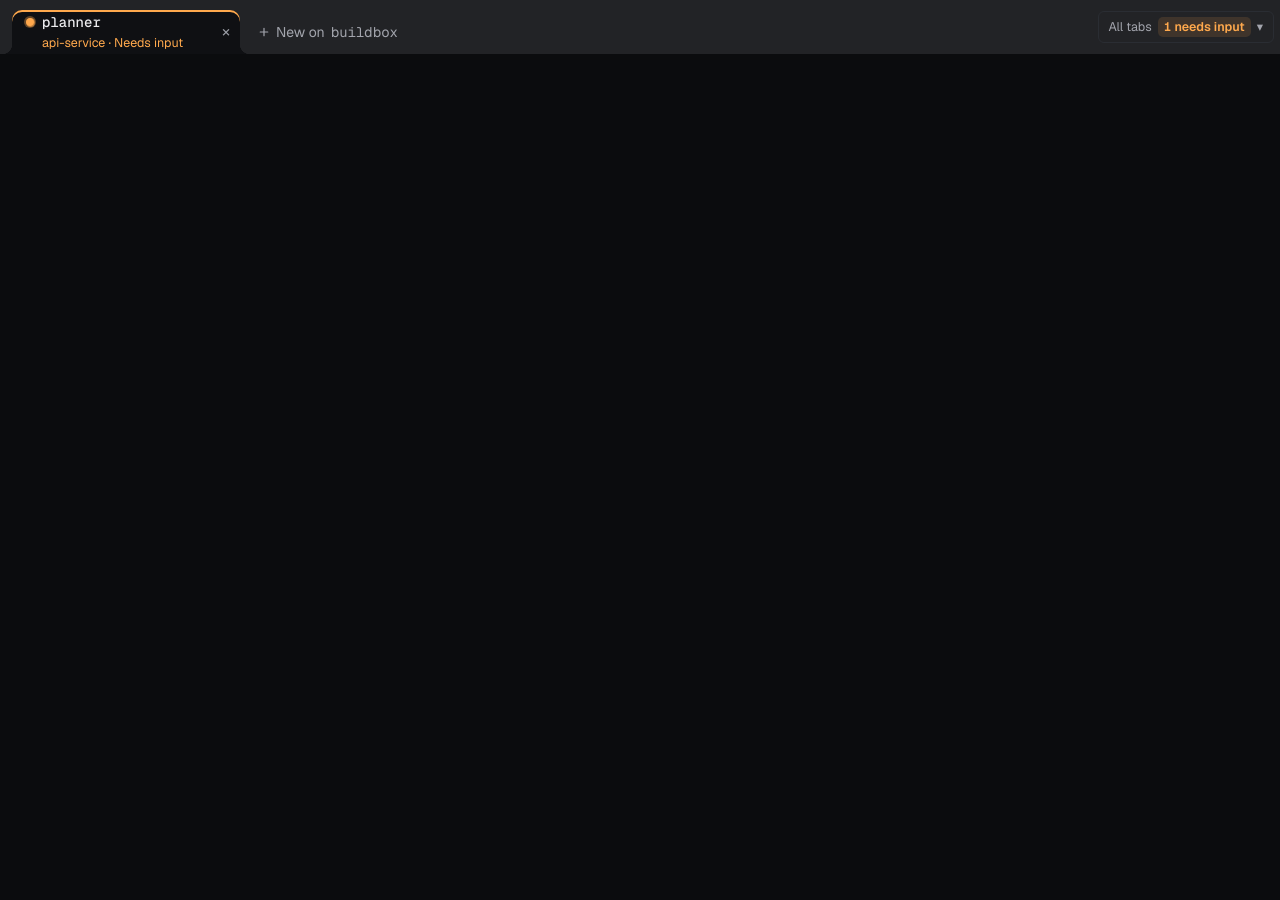
Test: SessionRow › All tabs menu › the_menu_closes_on_escape_or_an_outside_press_and_arrows_move
Click the button "All tabs 1 needs input ▾" at (1186, 27), box [1098, 11, 1274, 43]
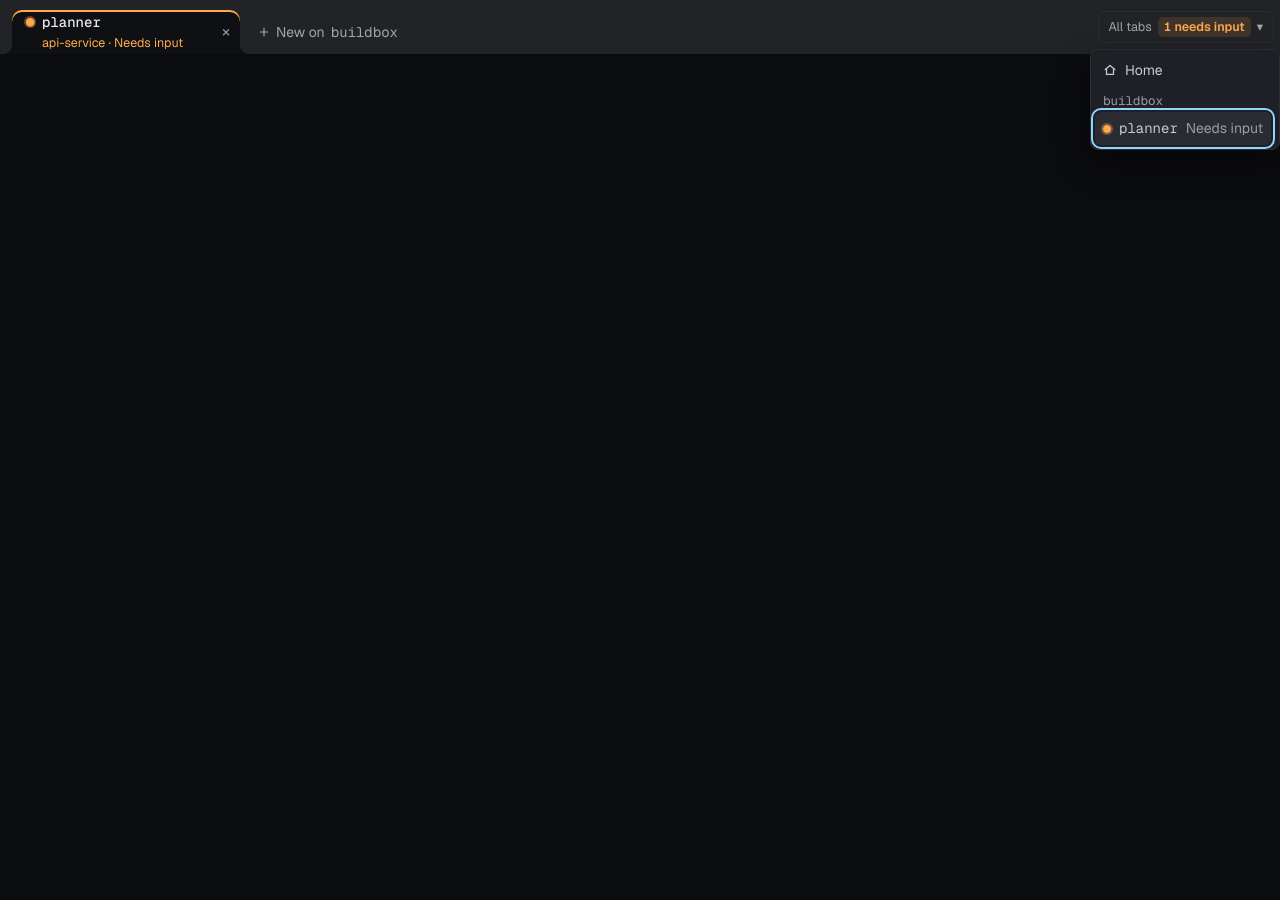
Press Arrowdown
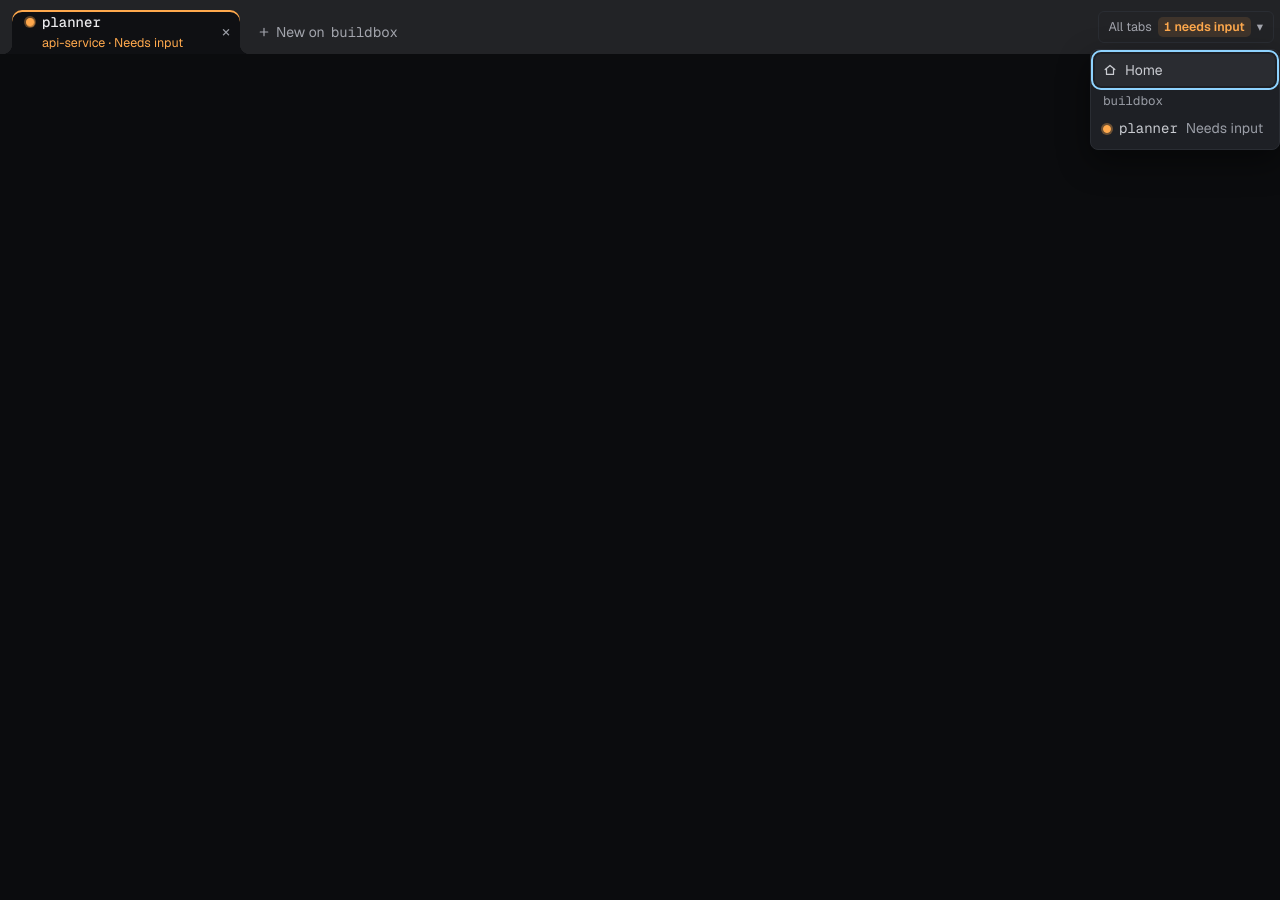
Press Arrowup
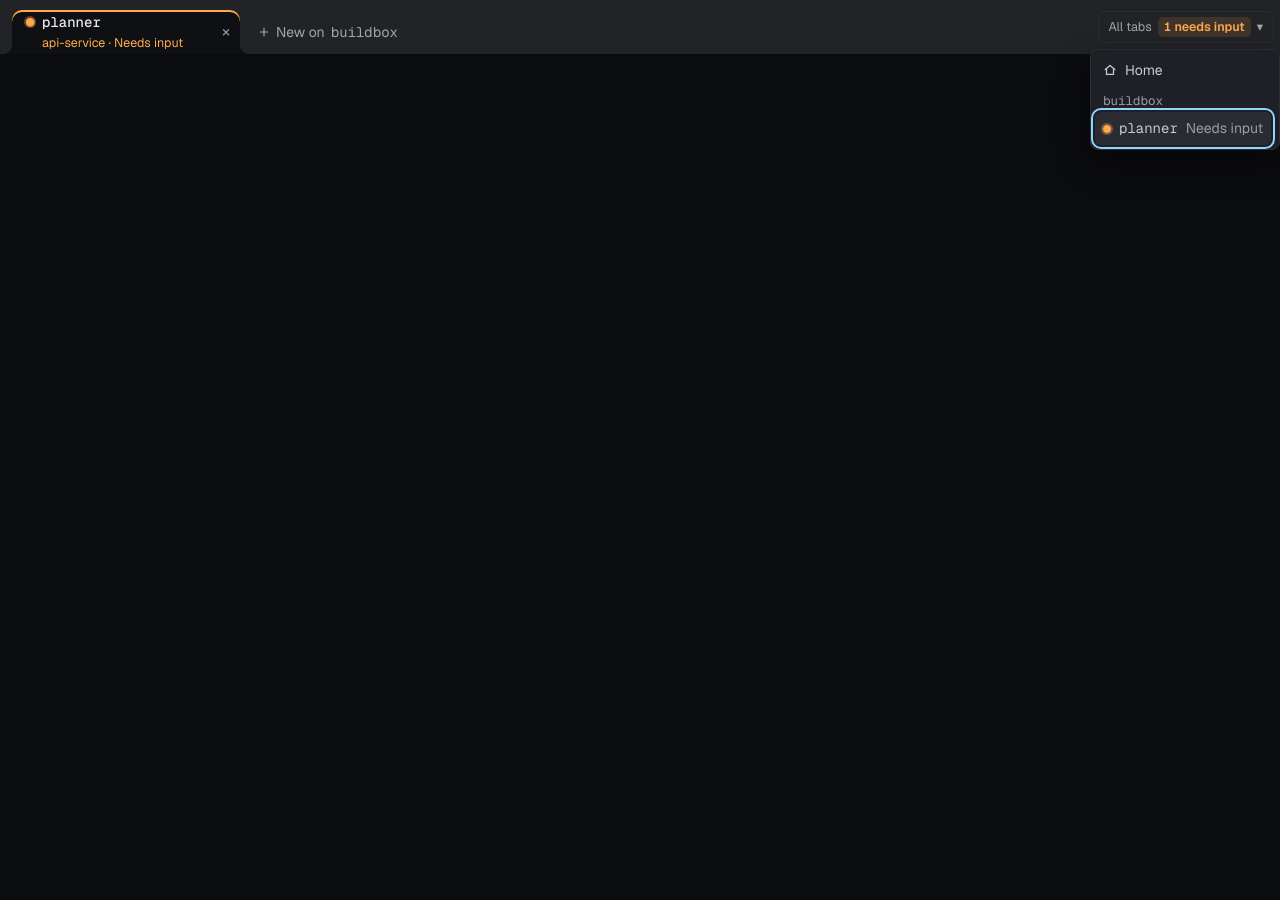
Press Escape
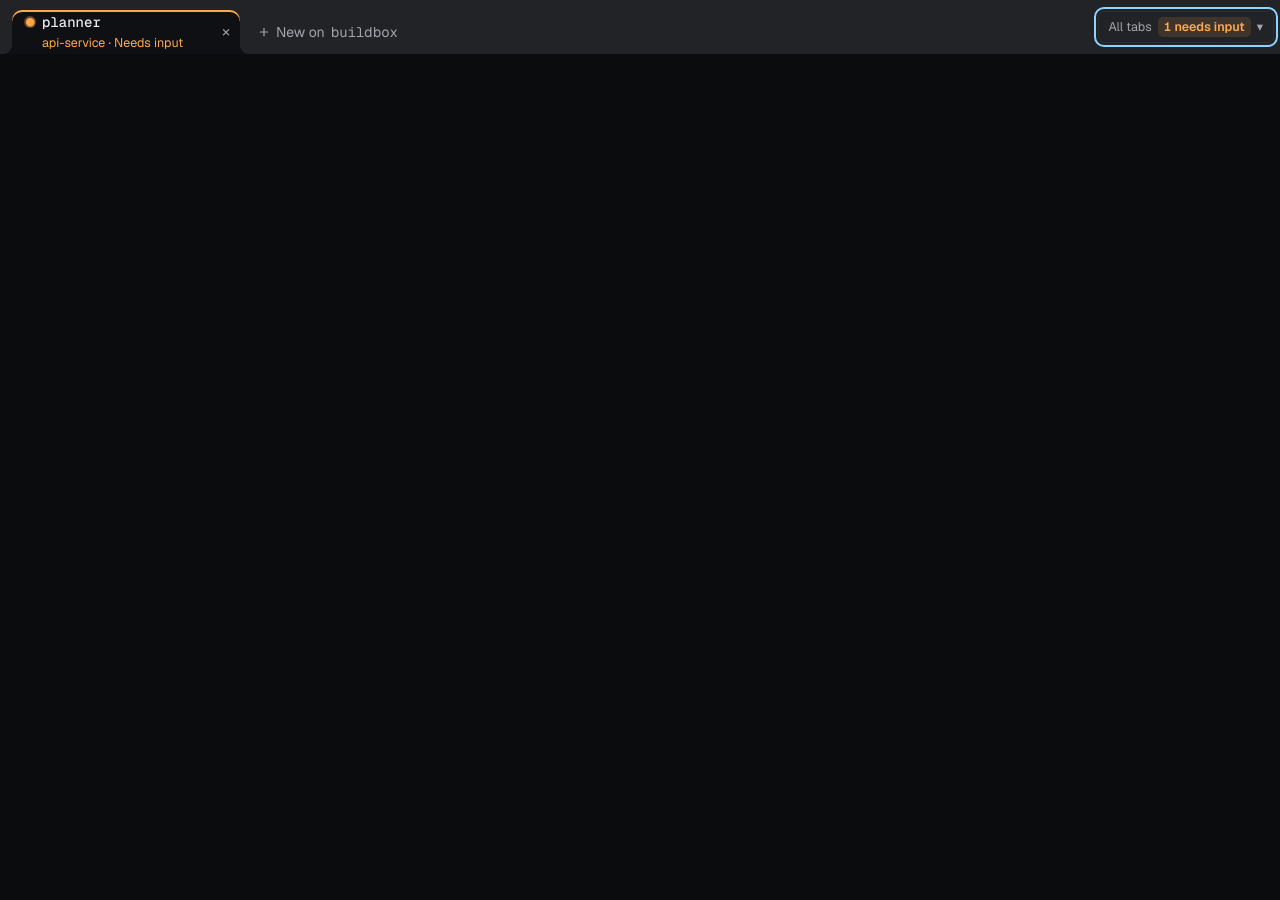
Expected: the menu is gone
Click the button "All tabs 1 needs input ▾" at (1186, 27), box [1098, 11, 1274, 43]
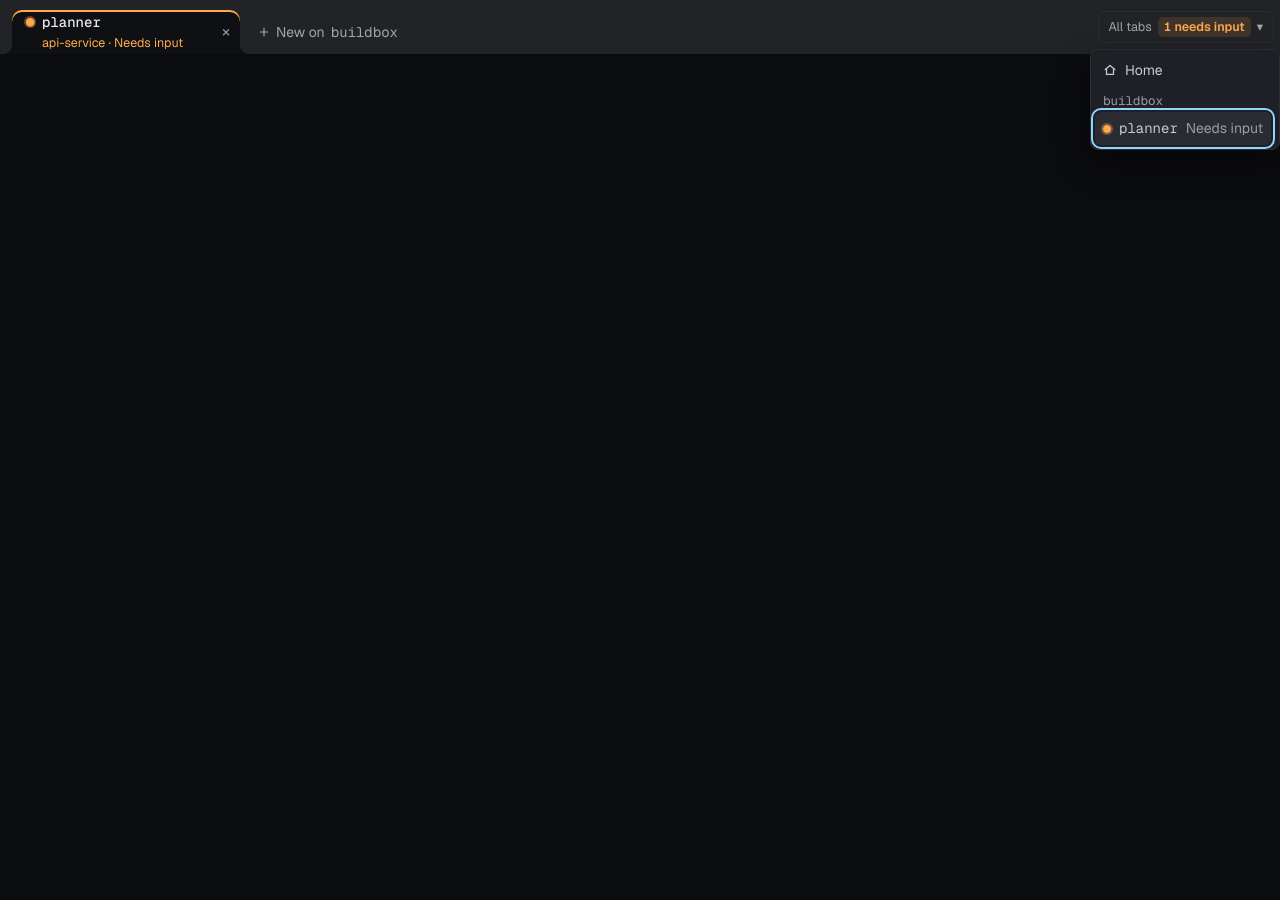
Expected: the menu is shown, [1090, 49, 1279, 150]
Click the element that starts with "planner" at (640, 450), box [0, 0, 1279, 899]
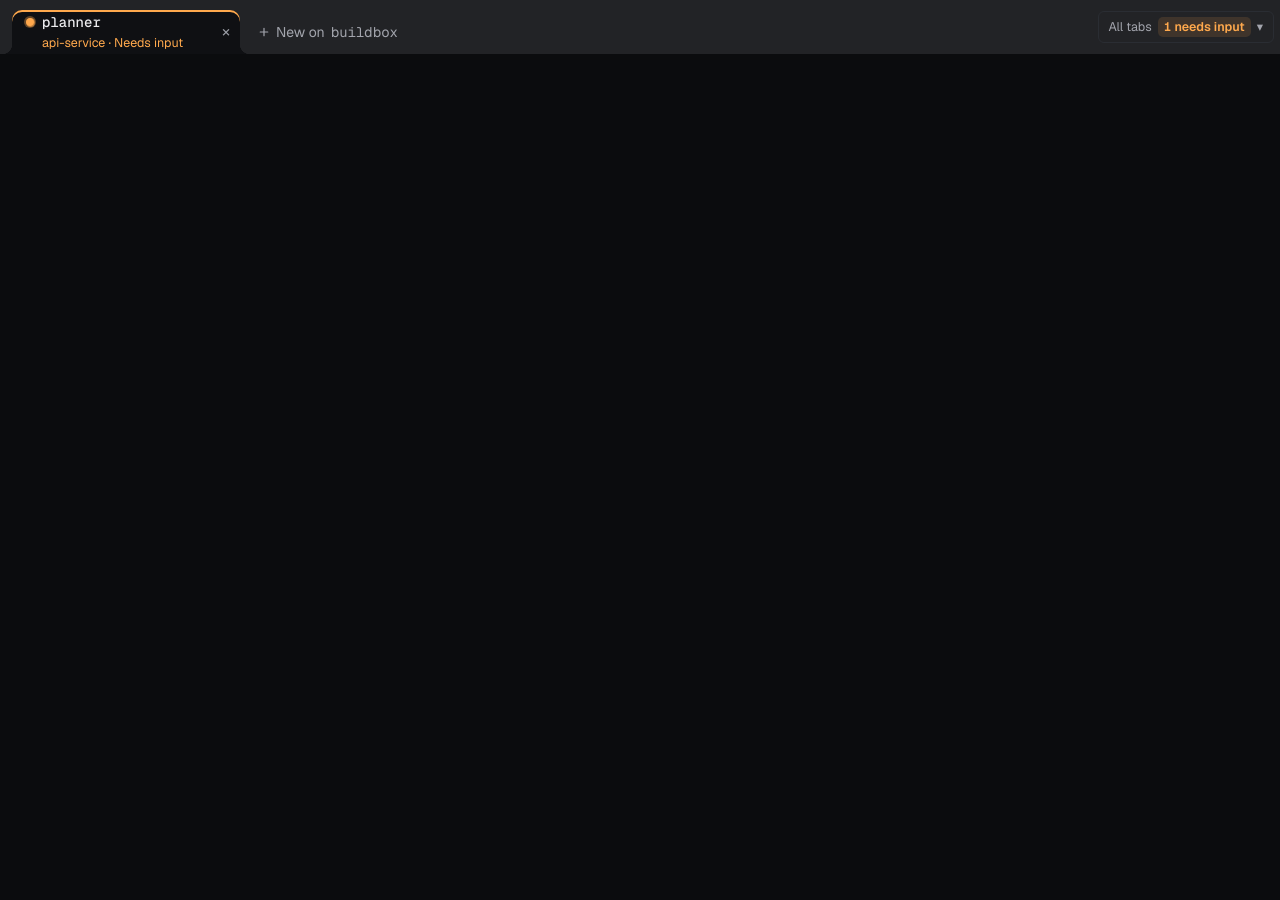
Expected: the menu is gone
